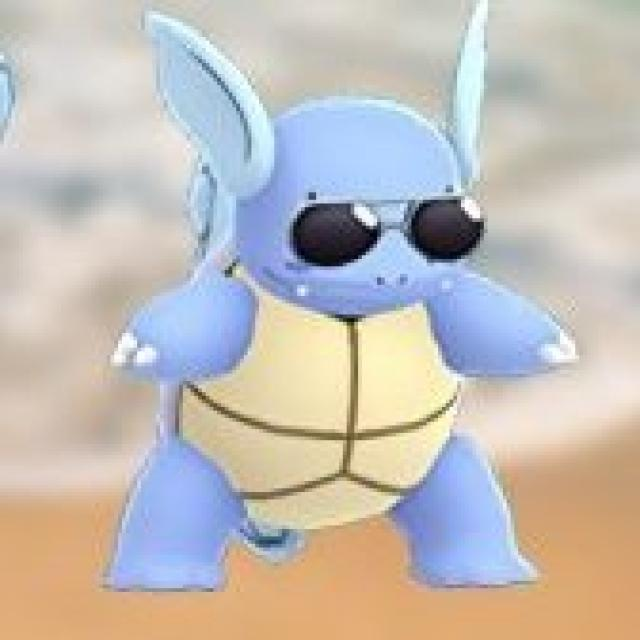Wartortle: (108, 5, 536, 593)
